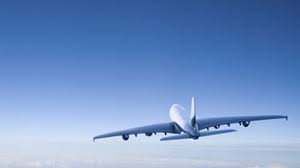plane: (93, 97, 288, 143)
